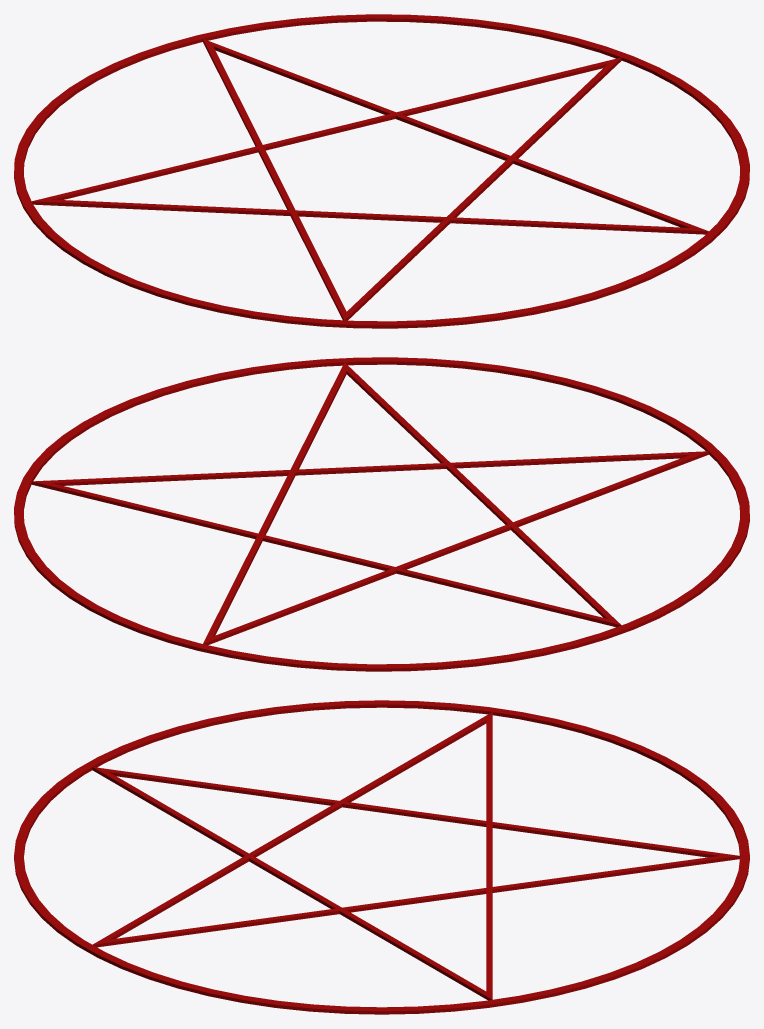
The model's file is pentacle.glb.
The picture shows the model from 3 angles, top to bottom: view 1: azimuth 30°, elevation 25°; view 2: azimuth 150°, elevation 25°; view 3: azimuth 270°, elevation 25°; orthographic projection.
Visible parts, largest first — view 1: Circle; view 2: Circle; view 3: Circle.
Boxes of the visible parts, bbox=[...] form: Circle: bbox=[14, 14, 749, 328]; Circle: bbox=[14, 357, 749, 671]; Circle: bbox=[14, 700, 749, 1014].
Size of the model in its own units: 205 by 1 by 205.
